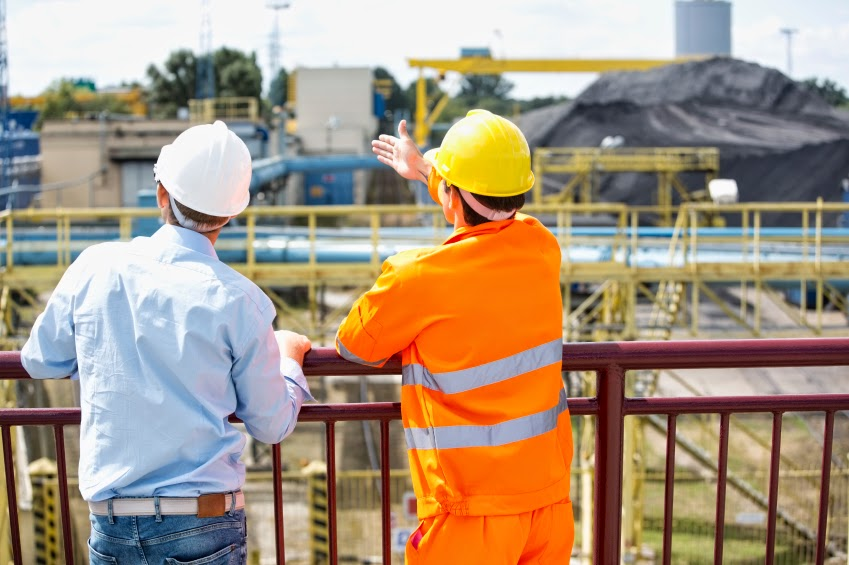casco: (421, 107, 536, 198), (152, 118, 254, 218)
